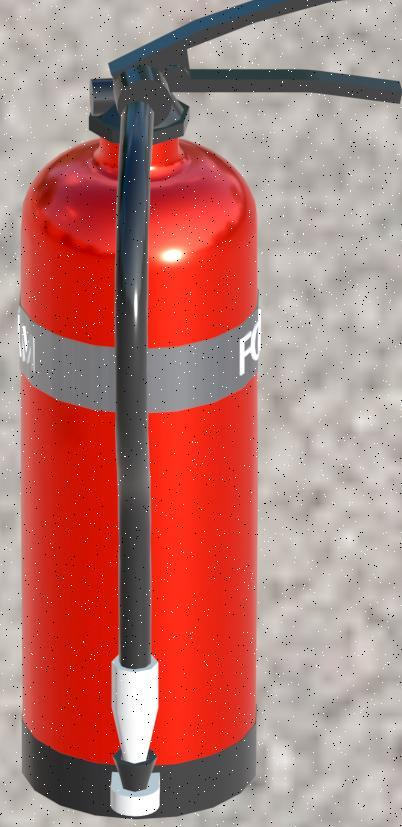Fire Extinguisher: (13, 3, 402, 818)
